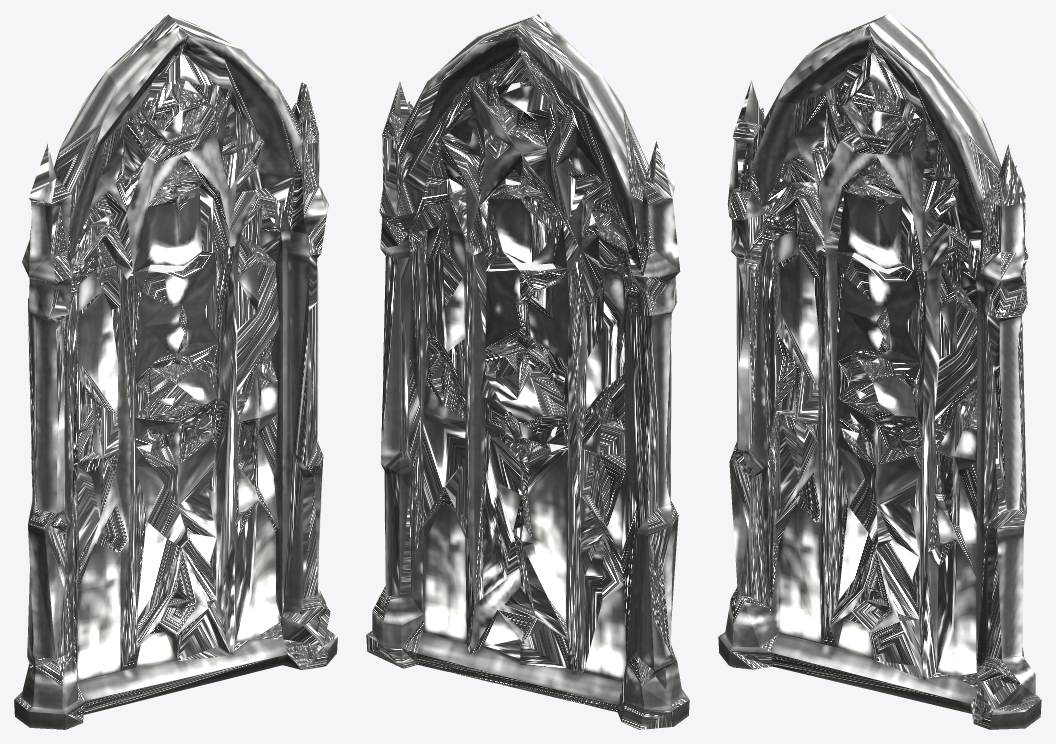
The model's file is gothic_window.glb.
3 renders of one model, left to right at view 1: azimuth 30°, elevation 25°; view 2: azimuth 150°, elevation 25°; view 3: azimuth 330°, elevation 25°, orthographic.
Parts seen in each view (by area): view 1: gothic_window; view 2: gothic_window; view 3: gothic_window.
Part boxes in pixels (x1,y1,x2,y2): gothic_window: [14, 14, 337, 729]; gothic_window: [366, 14, 689, 729]; gothic_window: [718, 14, 1041, 729].
Bounding box in the file's own units: 1.93 × 4 × 0.4317.
Materials: 1 (1 with a texture image).
